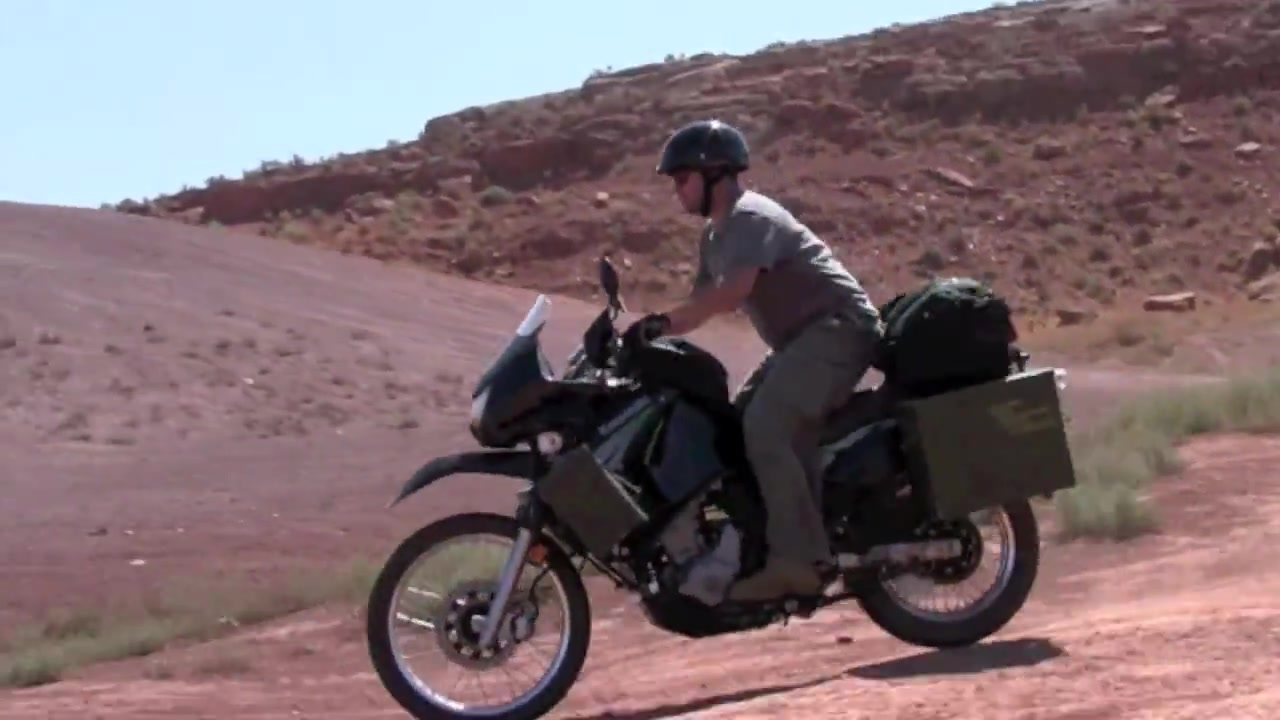motorbike: (363, 252, 1081, 720)
